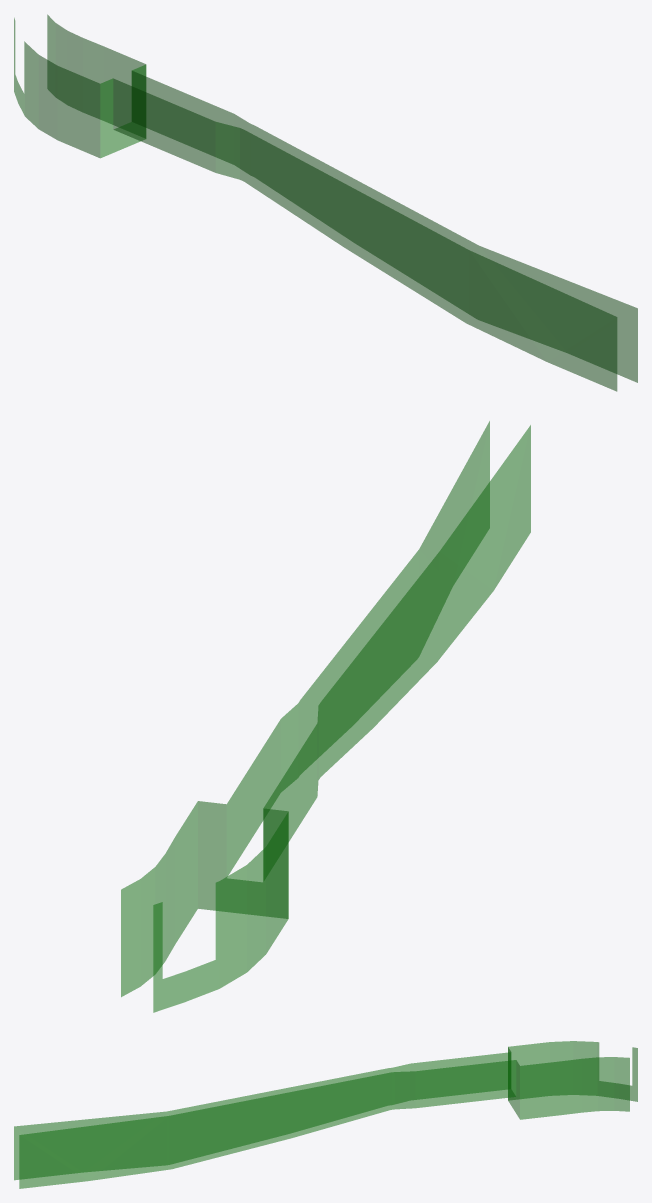
The model's file is wall7.obj.
3 views of the same model, one above another, from view 1: azimuth 30°, elevation 25°; view 2: azimuth 150°, elevation 25°; view 3: azimuth 270°, elevation 25° (orthographic). The views are drawn at different scales.
Bounding box in the file's own units: 107 × 47.32 × 371.
